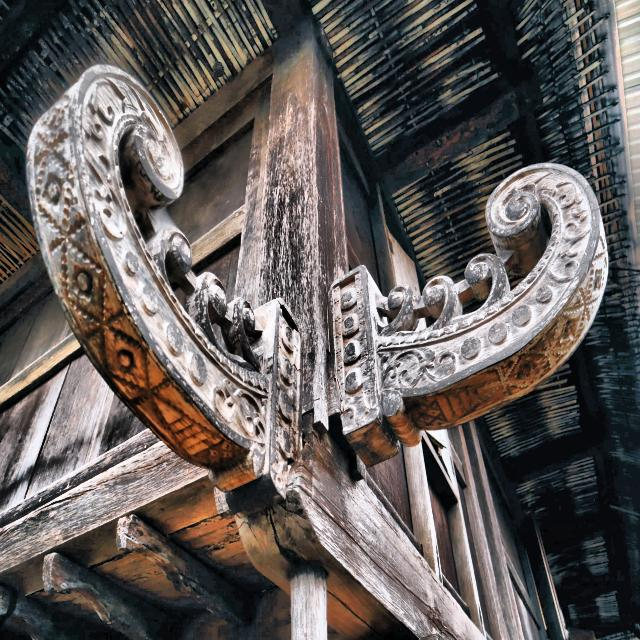column: (289, 568, 327, 640)
ornamen: (26, 65, 304, 499), (326, 163, 608, 468)
roof: (2, 0, 638, 623)
wall: (0, 16, 546, 640)
